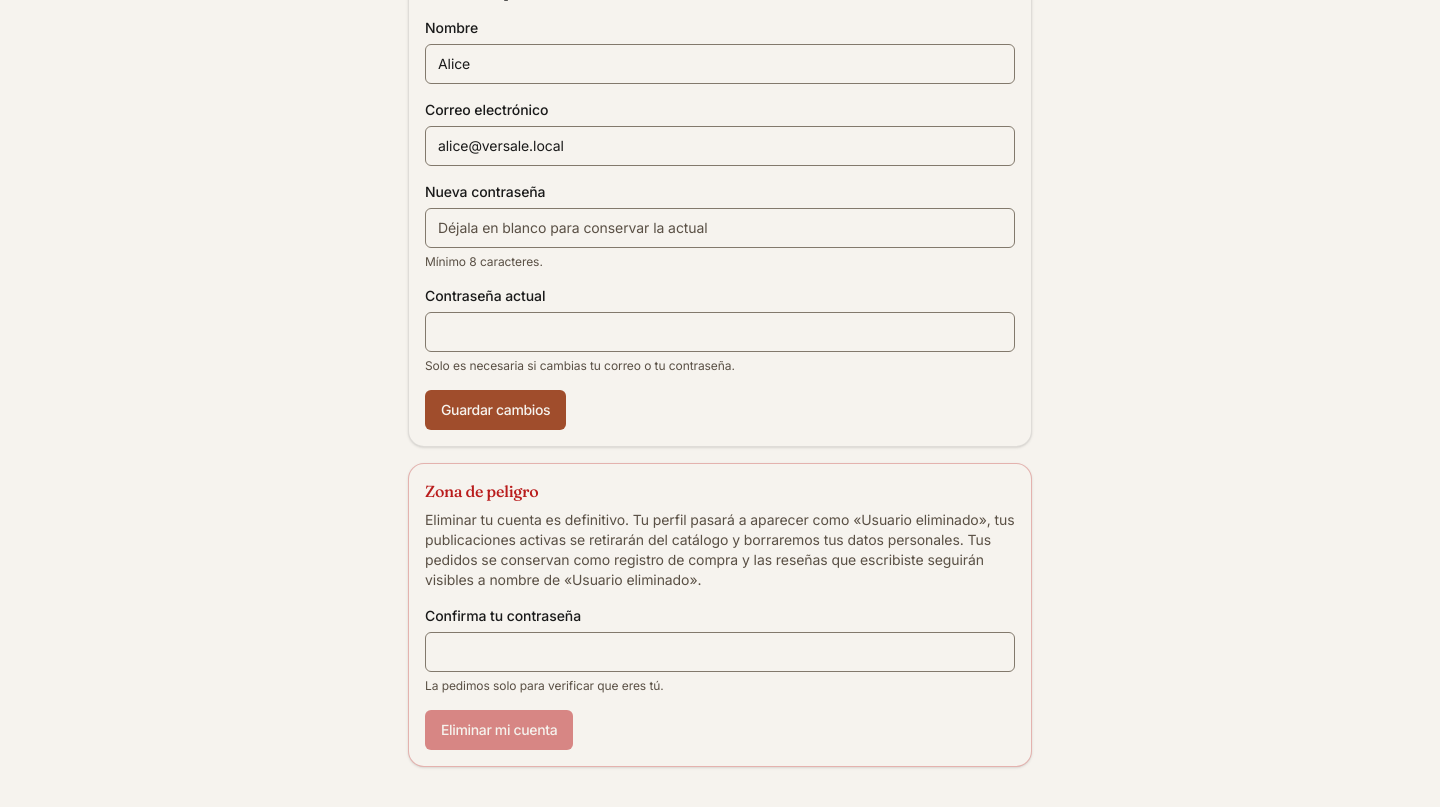
it: ProfilePage — zona de peligro (borrado de cuenta) › muestra el mensaje de red en español cuando la API no responde
(page scrolled)
Type "claveSegura1" into the password field labelled "Confirma tu contraseña" at (720, 652), box [425,632,1015,672]
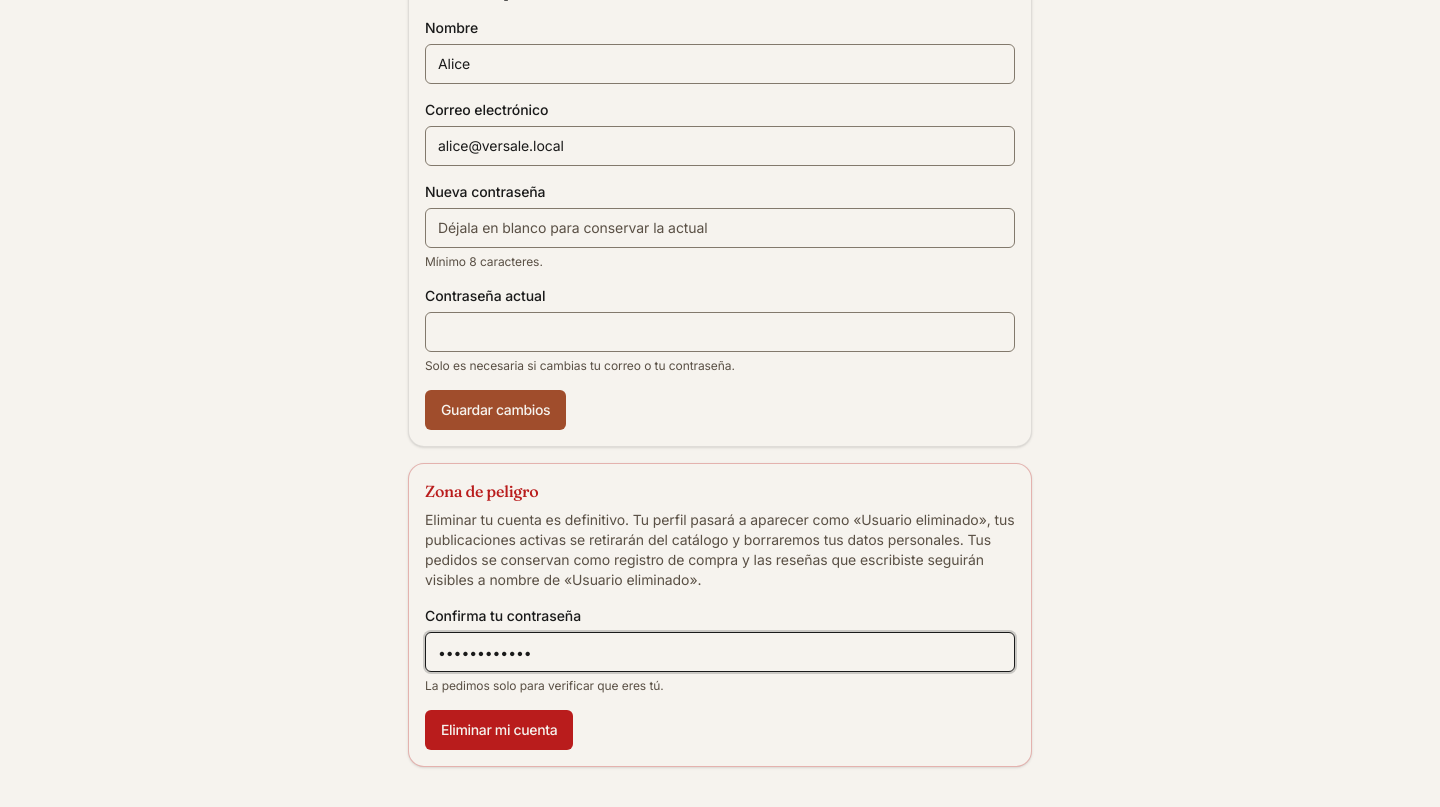
Click the button "Eliminar mi cuenta" at (499, 730), box [425,710,573,750]
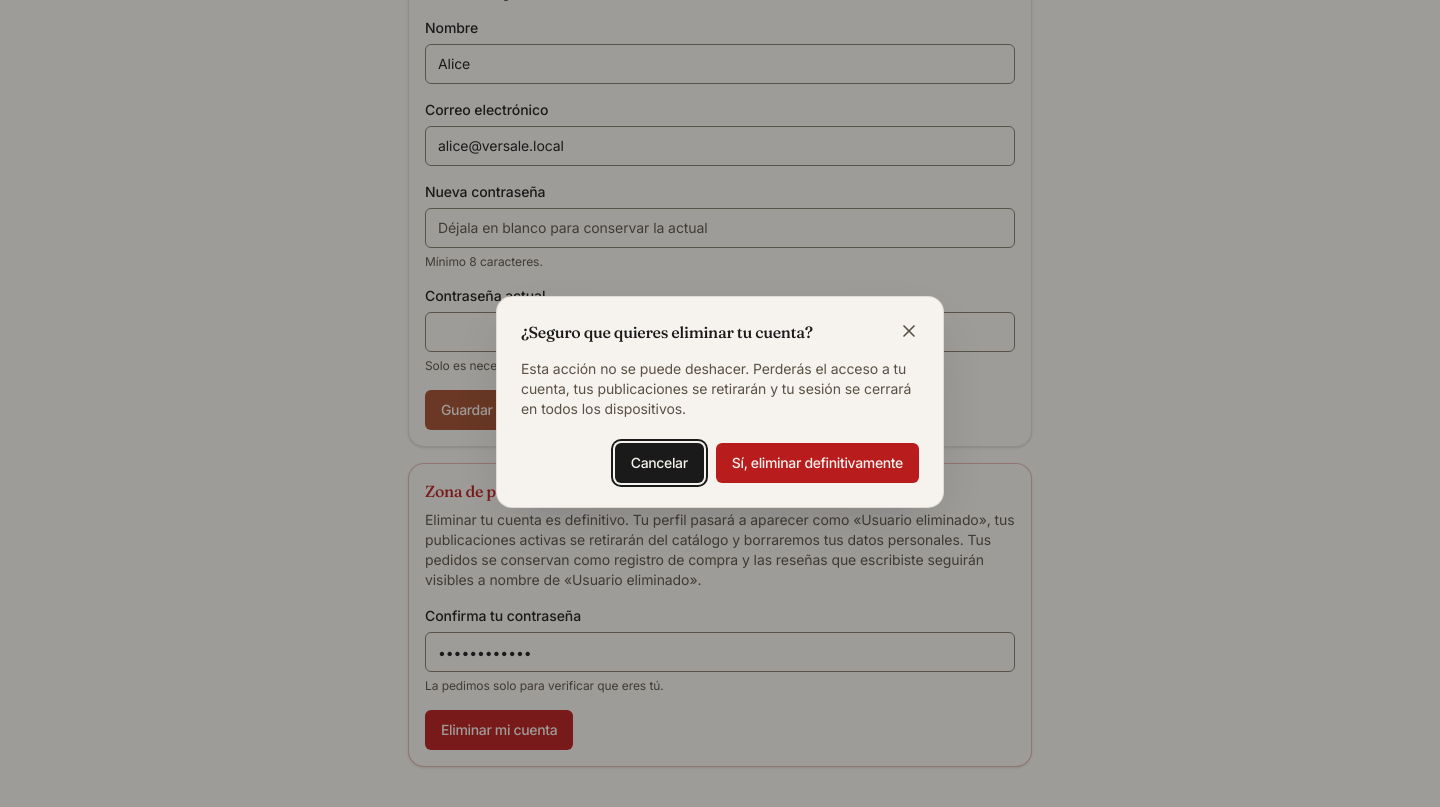
Click the button "Sí, eliminar definitivamente" at (817, 463), box [716,443,919,483]
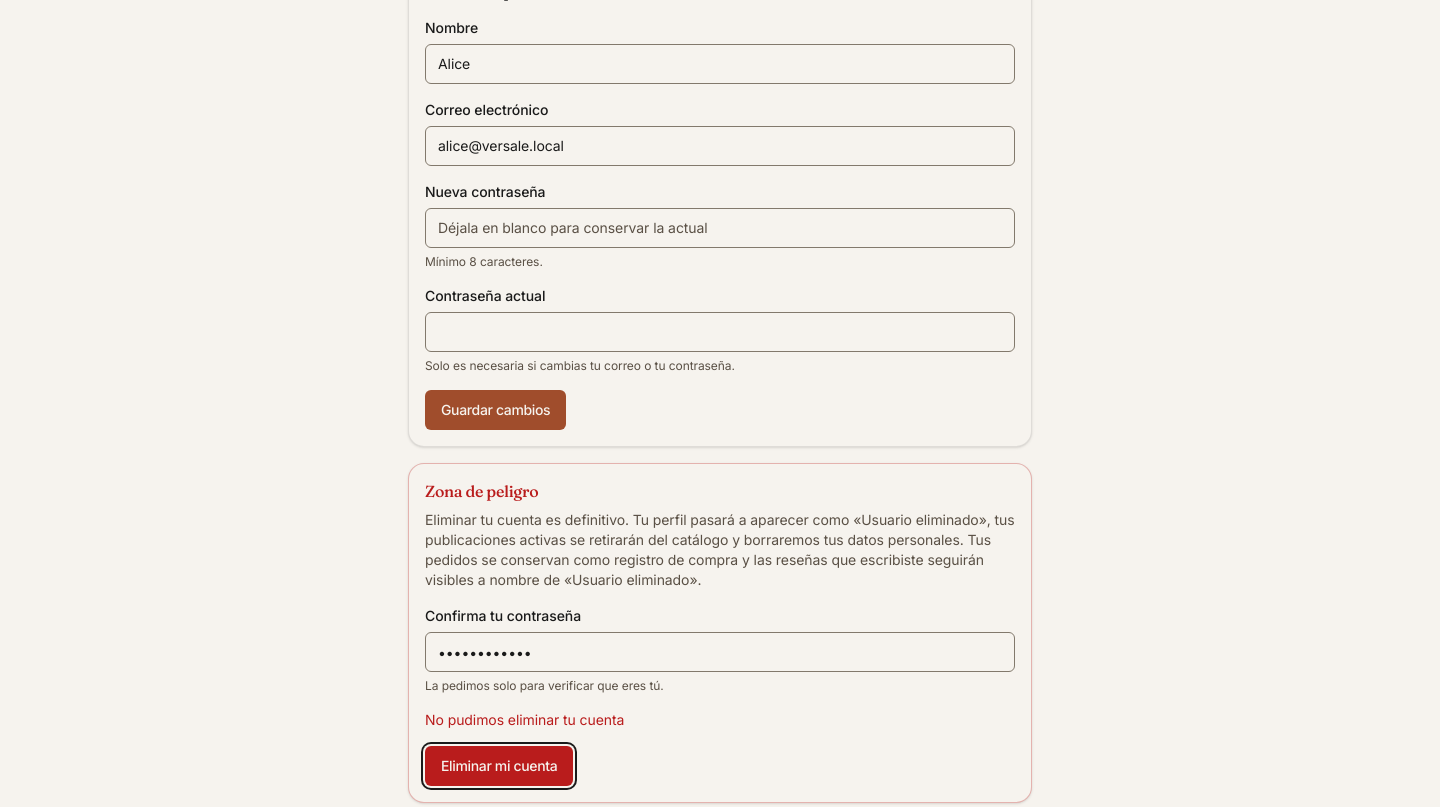
Check: the text "No pudimos eliminar tu cuenta" is shown, box [425,711,624,728]
